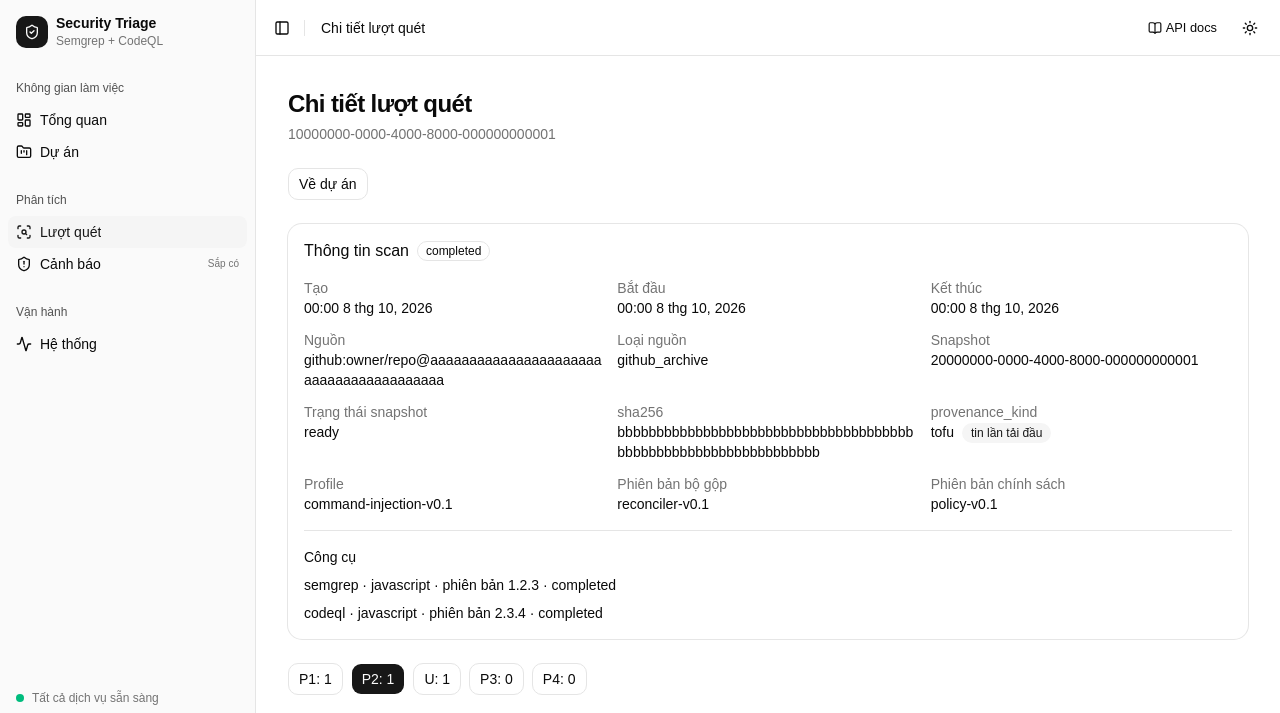
Test case: Scan detail › reads tier and tool from the URL and changes both filters through shareable links
Click the button "P1: 1" at coordinates (315, 679), box [288, 663, 343, 695]
(page scrolled)
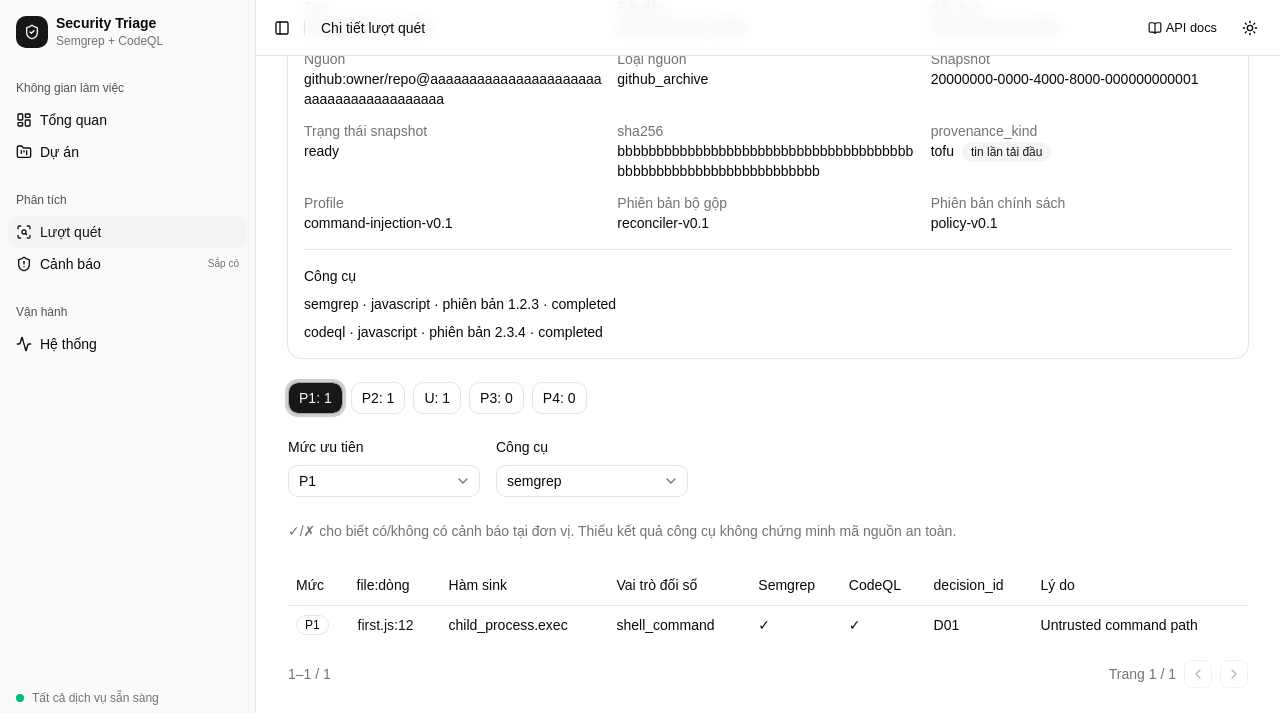
Expected: the button with aria-label "Xem đơn vị first.js:12" is shown, [356, 614, 414, 636]
Click the dropdown named "Công cụ" at coordinates (592, 481), box [496, 465, 688, 497]
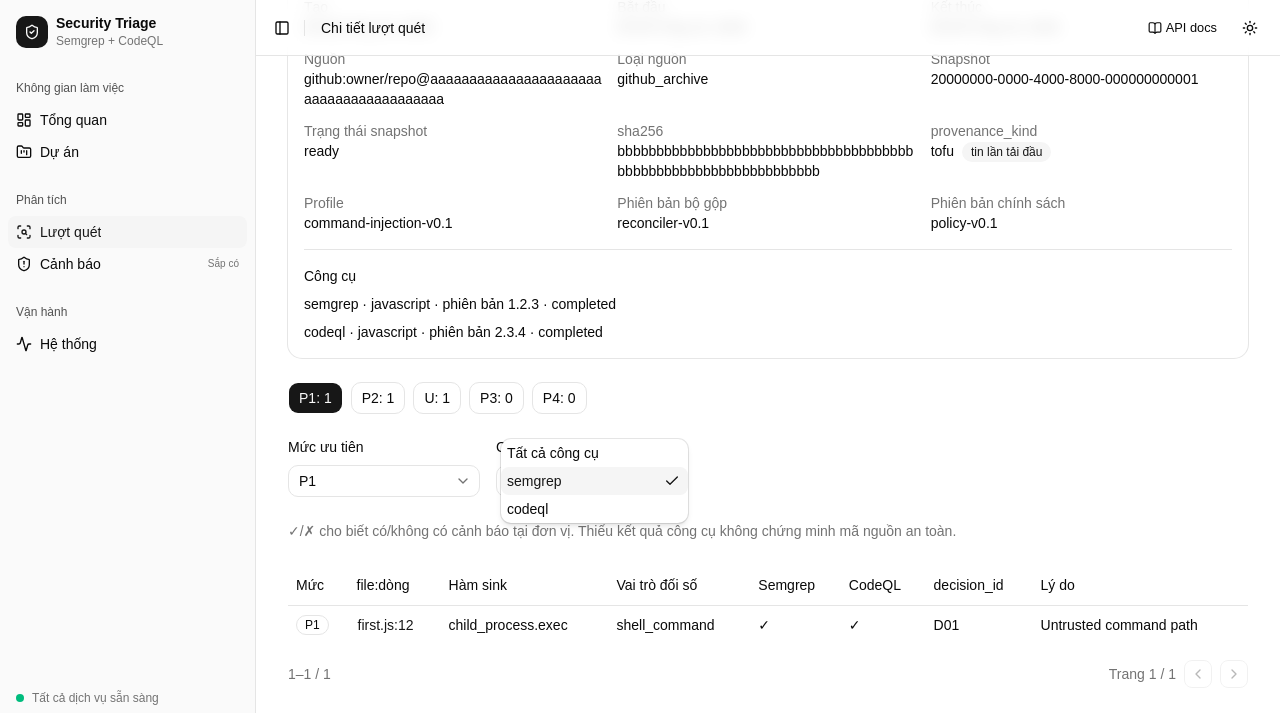
Click the option "codeql" at coordinates (528, 509), box [507, 501, 548, 517]
(page scrolled)
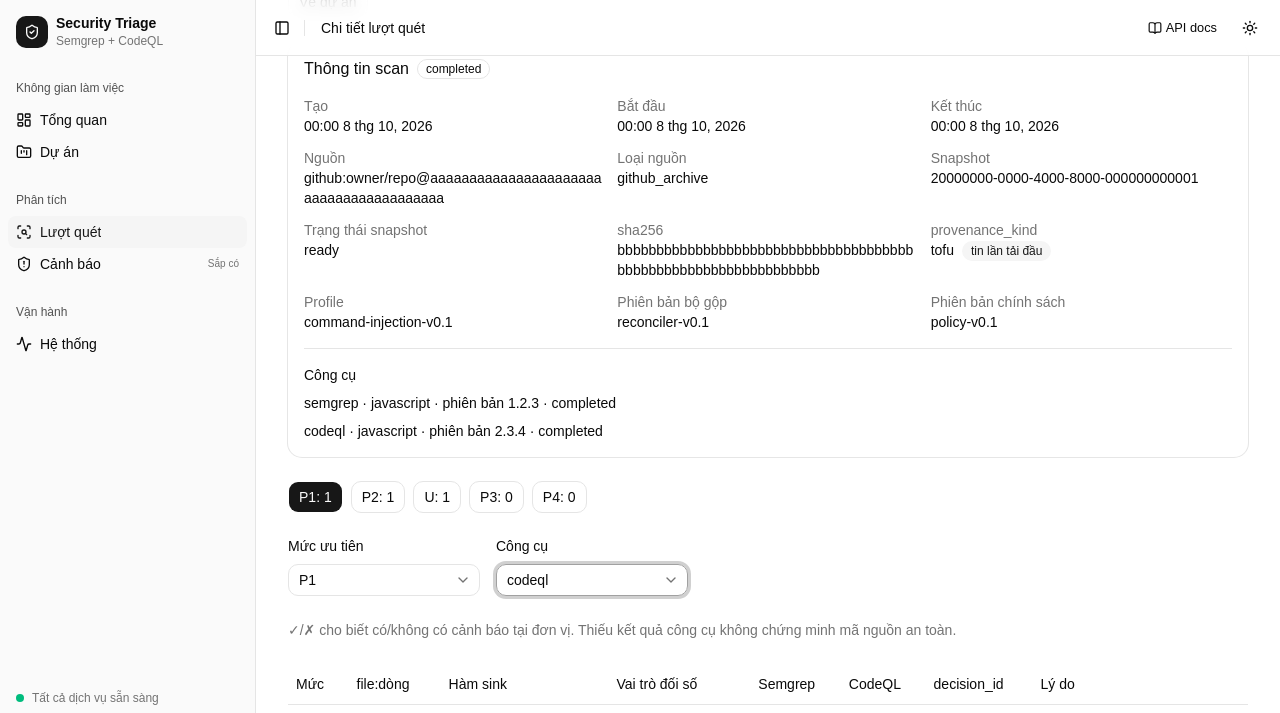
Expected: the text "codeql" is shown, [507, 570, 548, 590]
Click the button "U: 1" at coordinates (437, 497), box [413, 481, 461, 513]
(page scrolled)
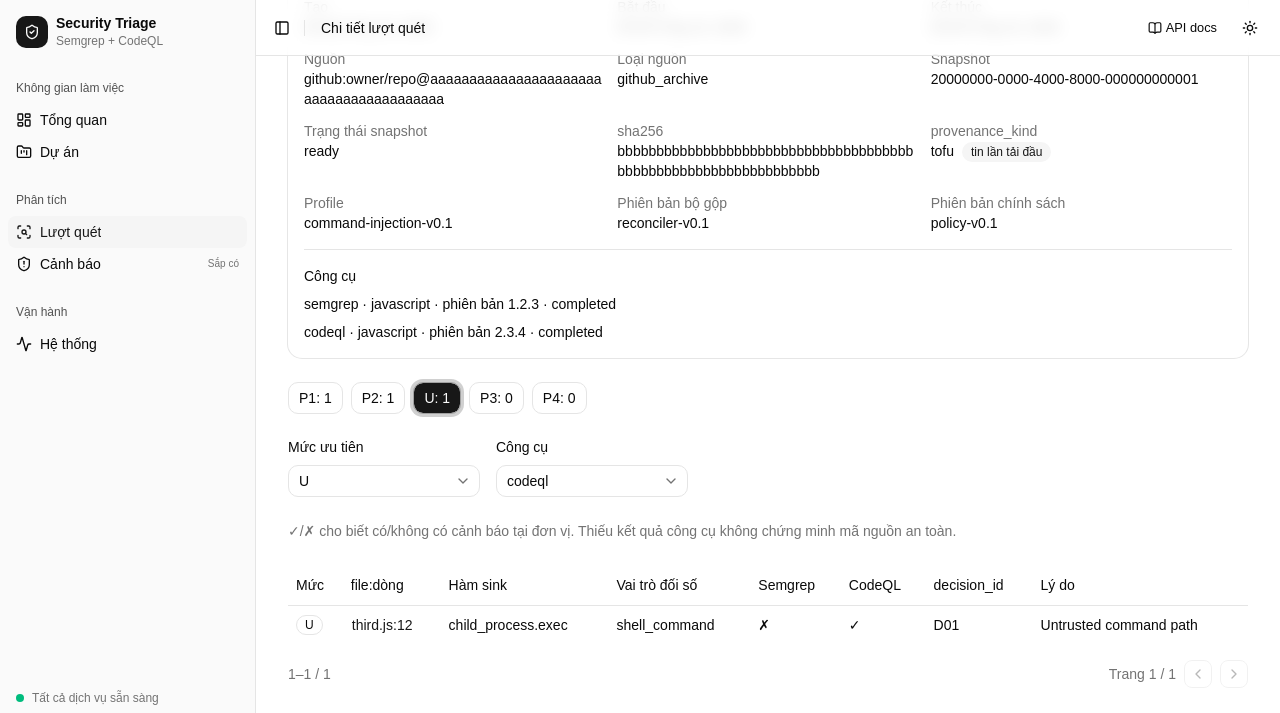
Expected: the button with aria-label "Xem đơn vị third.js:12" is shown, [351, 614, 414, 636]
